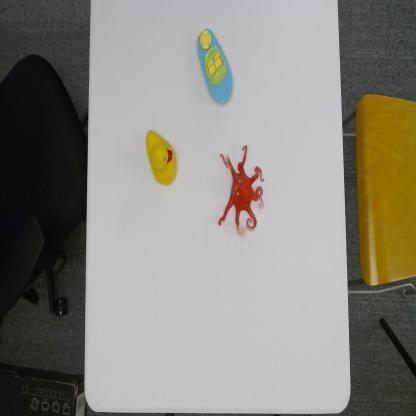Boat: (196, 25, 234, 107)
Duck: (144, 127, 178, 188)
Octopus: (217, 145, 266, 238)
